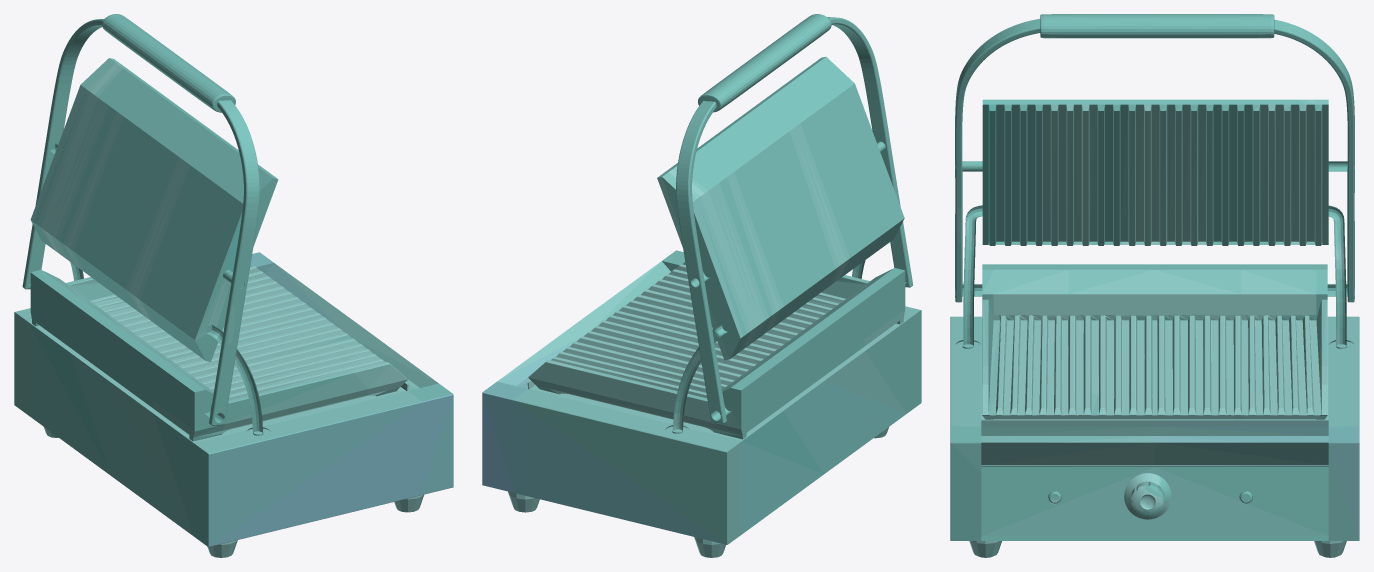
The picture shows the model from 3 angles, left to right: view 1: azimuth 30°, elevation 25°; view 2: azimuth 150°, elevation 25°; view 3: azimuth 270°, elevation 25°; orthographic projection. The views are drawn at different scales.
Visible parts, largest first — view 1: world; view 2: world; view 3: world.
Part boxes in pixels (<box>): world: <box>14,14,453,557</box>; world: <box>482,14,921,557</box>; world: <box>950,14,1359,557</box>.
Size of the model in its own units: 0.6282 by 0.9959 by 0.8114.
